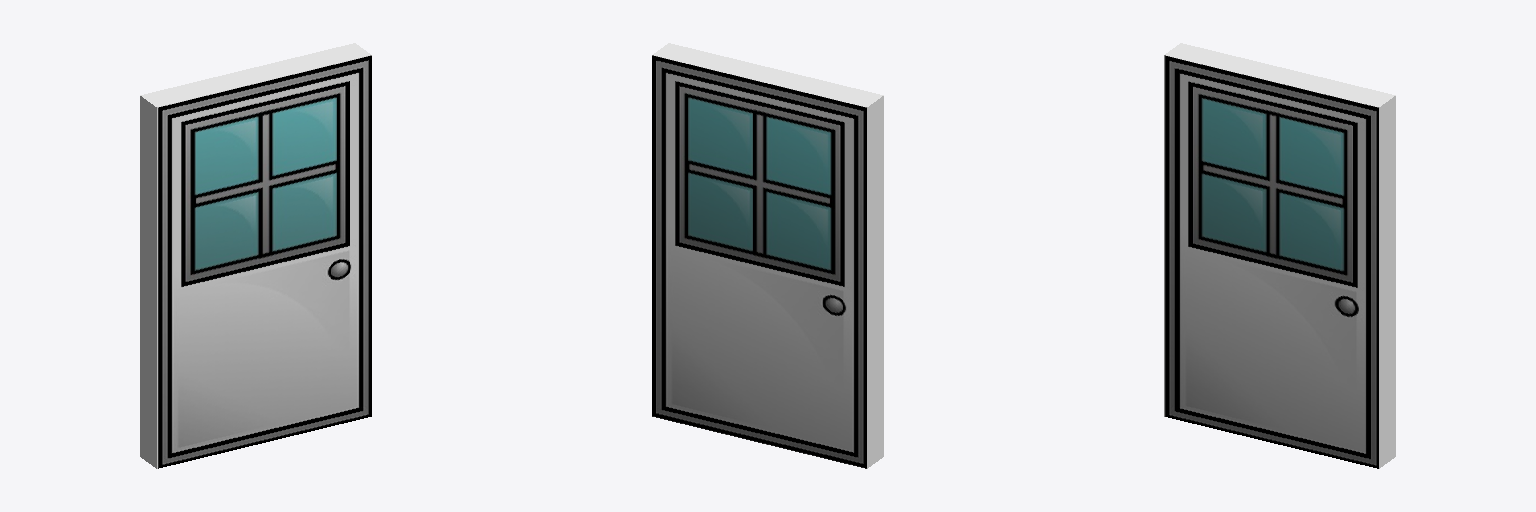
3 views of the same model, side by side, from view 1: azimuth 30°, elevation 25°; view 2: azimuth 150°, elevation 25°; view 3: azimuth 330°, elevation 25° (orthographic).
Visible parts, largest first — view 1: pCube1; view 2: pCube1; view 3: pCube1.
Part boxes in pixels (left/top/right/bottom): pCube1: left=140, top=43, right=371, bottom=468; pCube1: left=652, top=43, right=883, bottom=468; pCube1: left=1164, top=43, right=1395, bottom=468.
Size of the model in its own units: 2.2 by 3.54 by 0.2955.
Materials: 1 (1 with a texture image).